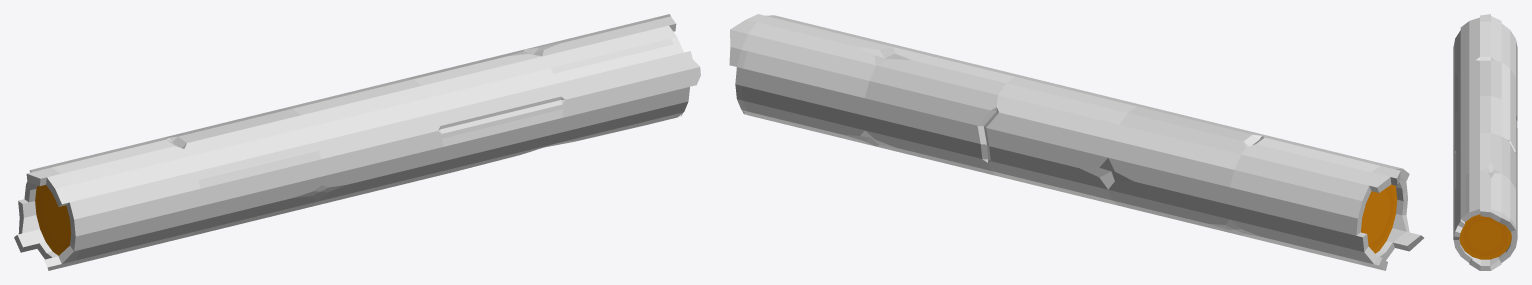
File: Log_7.fbx
3 renders of one model, left to right at view 1: azimuth 30°, elevation 25°; view 2: azimuth 150°, elevation 25°; view 3: azimuth 270°, elevation 25°, orthographic. The views are drawn at different scales.
Visible parts, largest first — view 1: Circle.197; view 2: Circle.197; view 3: Circle.197.
Boxes of the visible parts, box(x1,y1,x2,y2) form: Circle.197: box(14, 14, 700, 270); Circle.197: box(729, 14, 1423, 270); Circle.197: box(1453, 14, 1517, 270).
Size of the model in its own units: 174 by 23.2 by 23.56.
